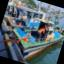fishing boat: (3, 11, 64, 64), (5, 0, 52, 37)
